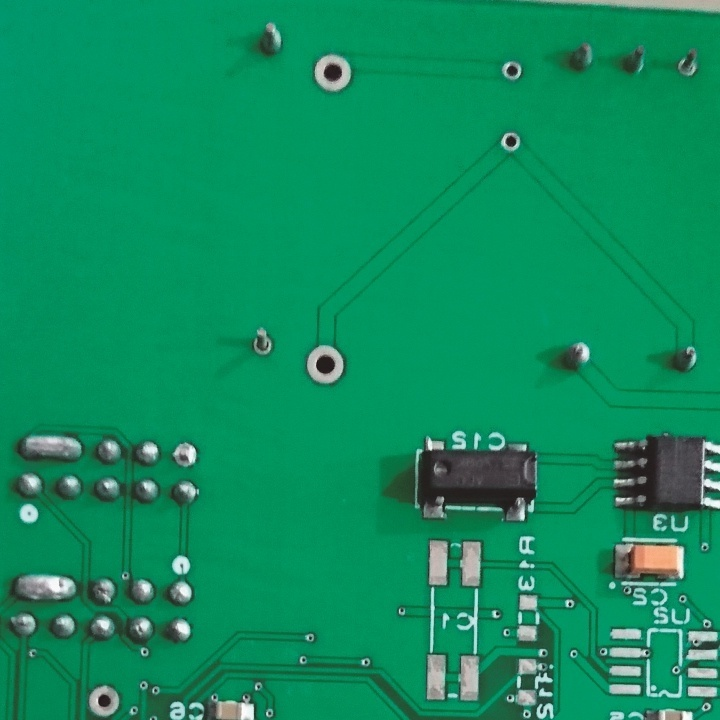F: (301, 341, 346, 388), (310, 52, 353, 96), (87, 683, 121, 718), (170, 438, 200, 470), (247, 327, 276, 360), (676, 51, 699, 80), (498, 128, 520, 155), (500, 59, 524, 83)
P: (16, 428, 92, 463), (9, 572, 79, 604)
